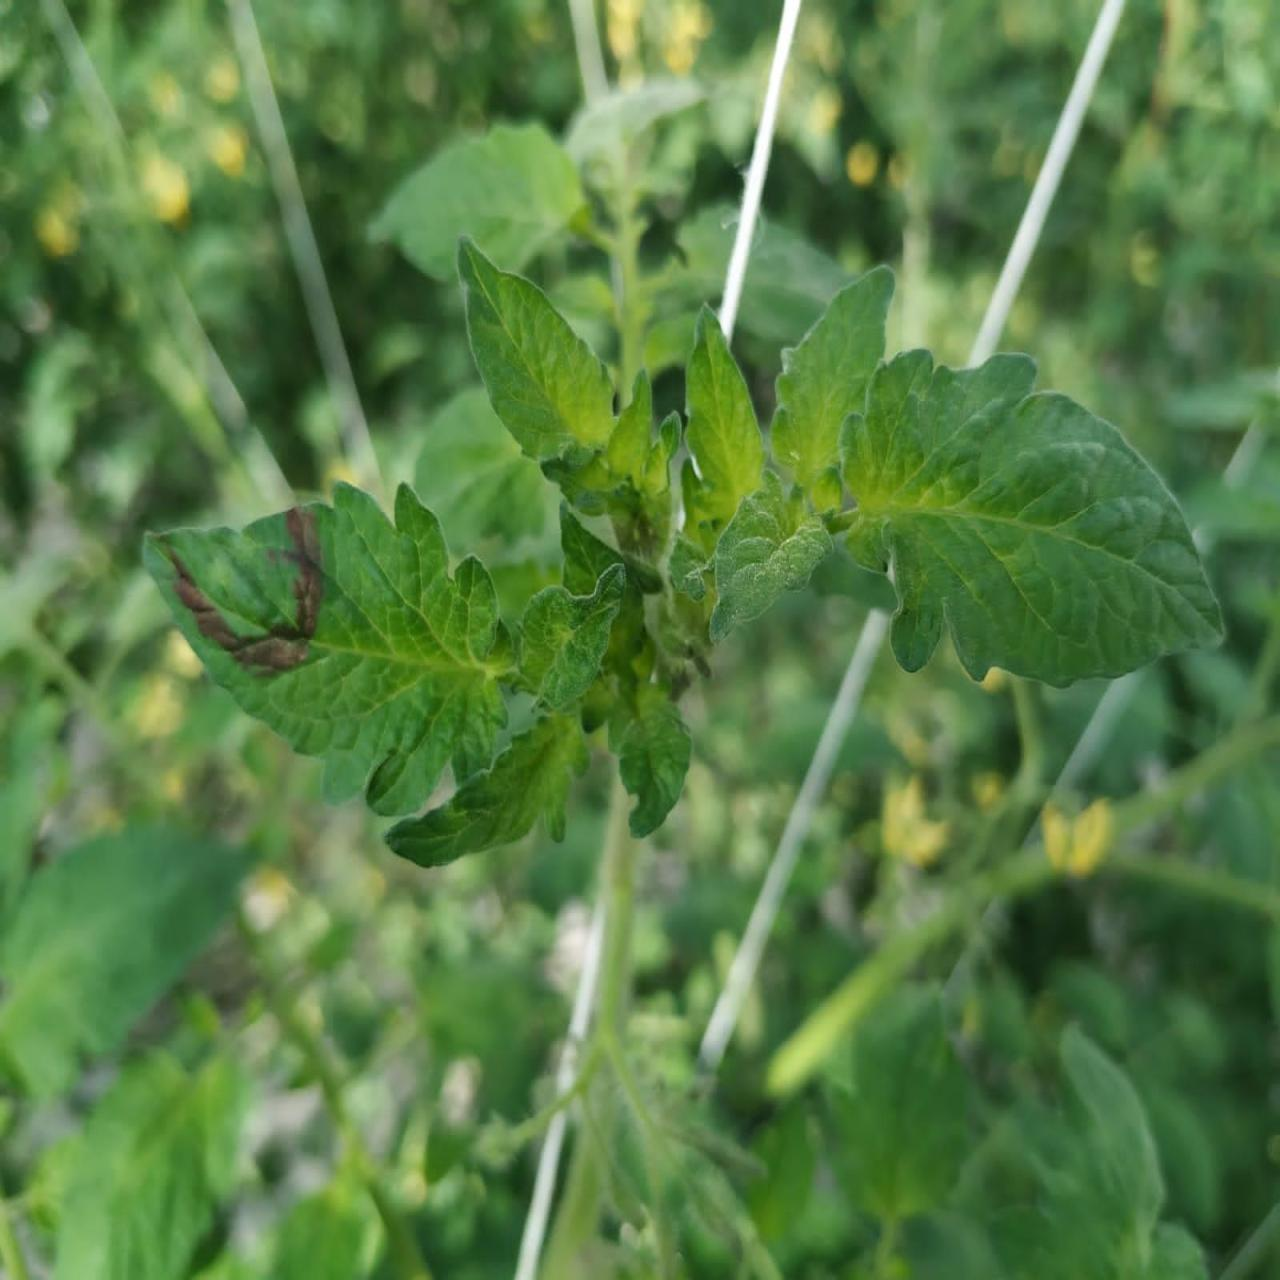T_L_H: (459, 241, 617, 458), (686, 308, 764, 515)
T_L_R: (840, 350, 1224, 688), (147, 484, 516, 818), (389, 714, 588, 869), (771, 268, 894, 515), (712, 471, 835, 644), (520, 564, 626, 712)
